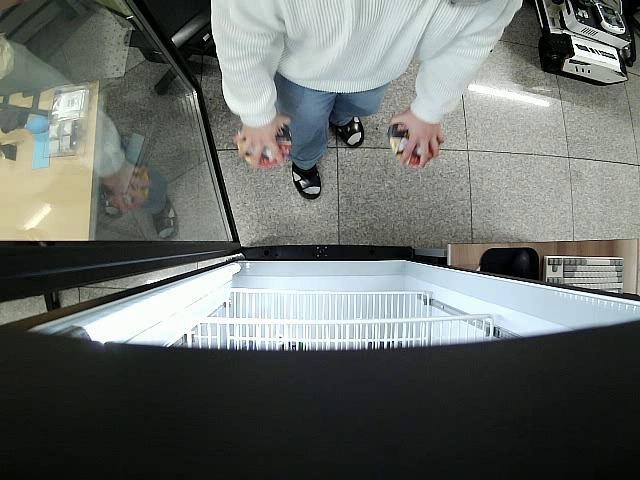07_buldak_L: (236, 122, 292, 169), (389, 122, 438, 165)
